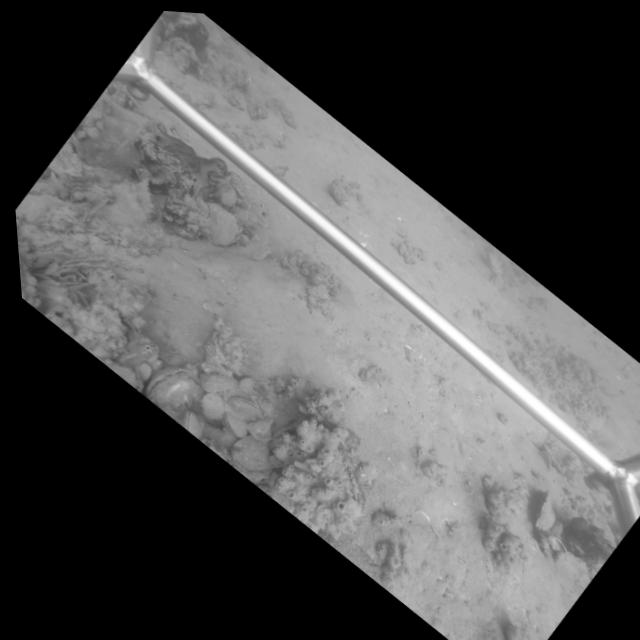Oyster-Closed: (144, 368, 205, 414), (205, 201, 244, 249), (134, 177, 158, 224), (533, 491, 556, 532), (227, 397, 262, 421), (197, 391, 225, 421), (199, 371, 235, 394), (222, 411, 248, 438), (181, 411, 206, 439), (484, 252, 500, 274)
Oyster-Indeterminate: (228, 436, 275, 477)
